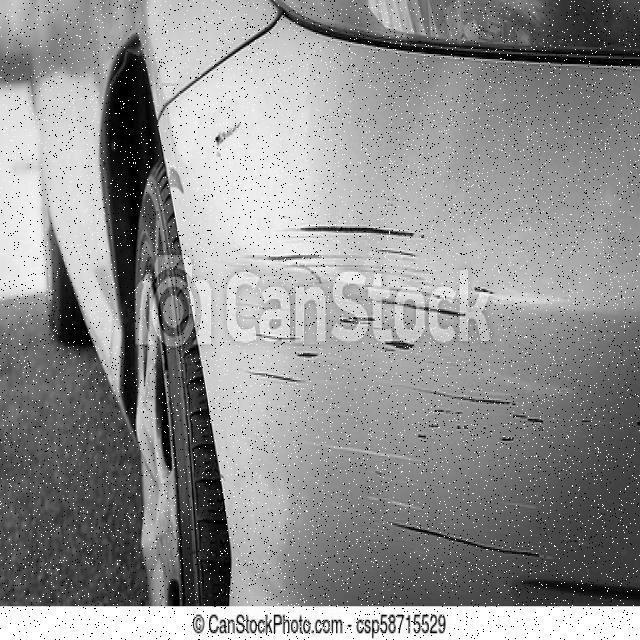front-bumper-dent: (141, 41, 639, 615)
